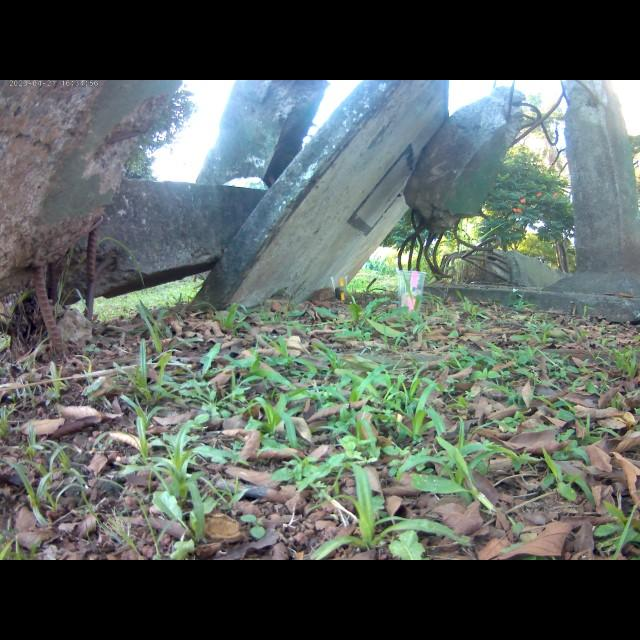detrito: (177, 80, 466, 319), (10, 184, 264, 340), (1, 174, 127, 359), (406, 240, 640, 325), (411, 84, 541, 231), (181, 80, 336, 191), (555, 80, 640, 272)
